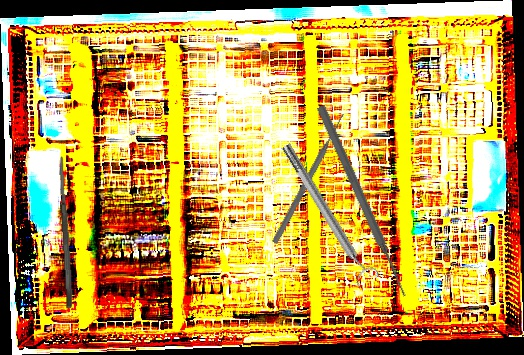Fixation Ring: (275, 137, 381, 290)
Pusher: (314, 104, 411, 299), (270, 111, 348, 246)
Spatula Surgical: (57, 155, 74, 309)
